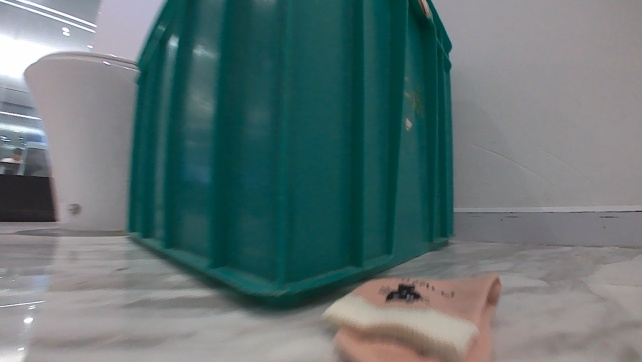socks: (318, 267, 507, 360)
toilet: (21, 51, 139, 232)
